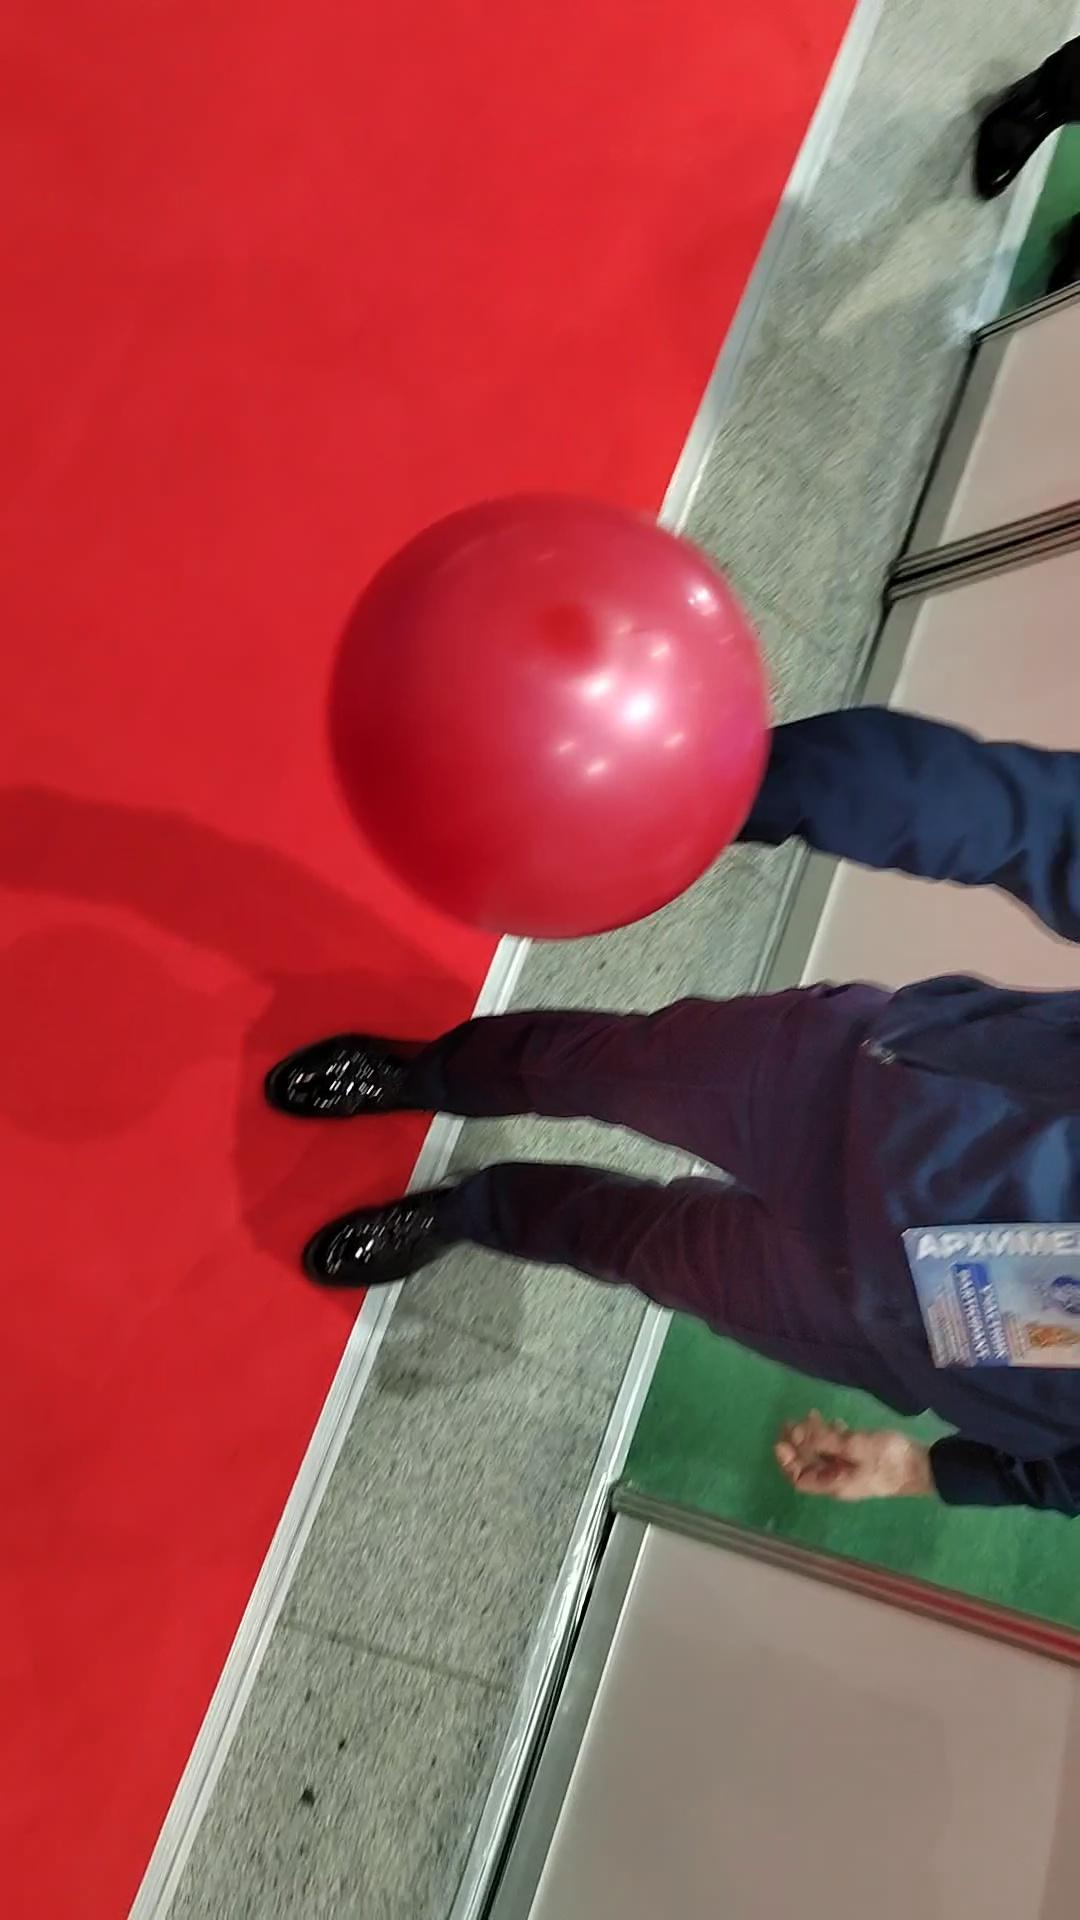red: (323, 486, 777, 937)
